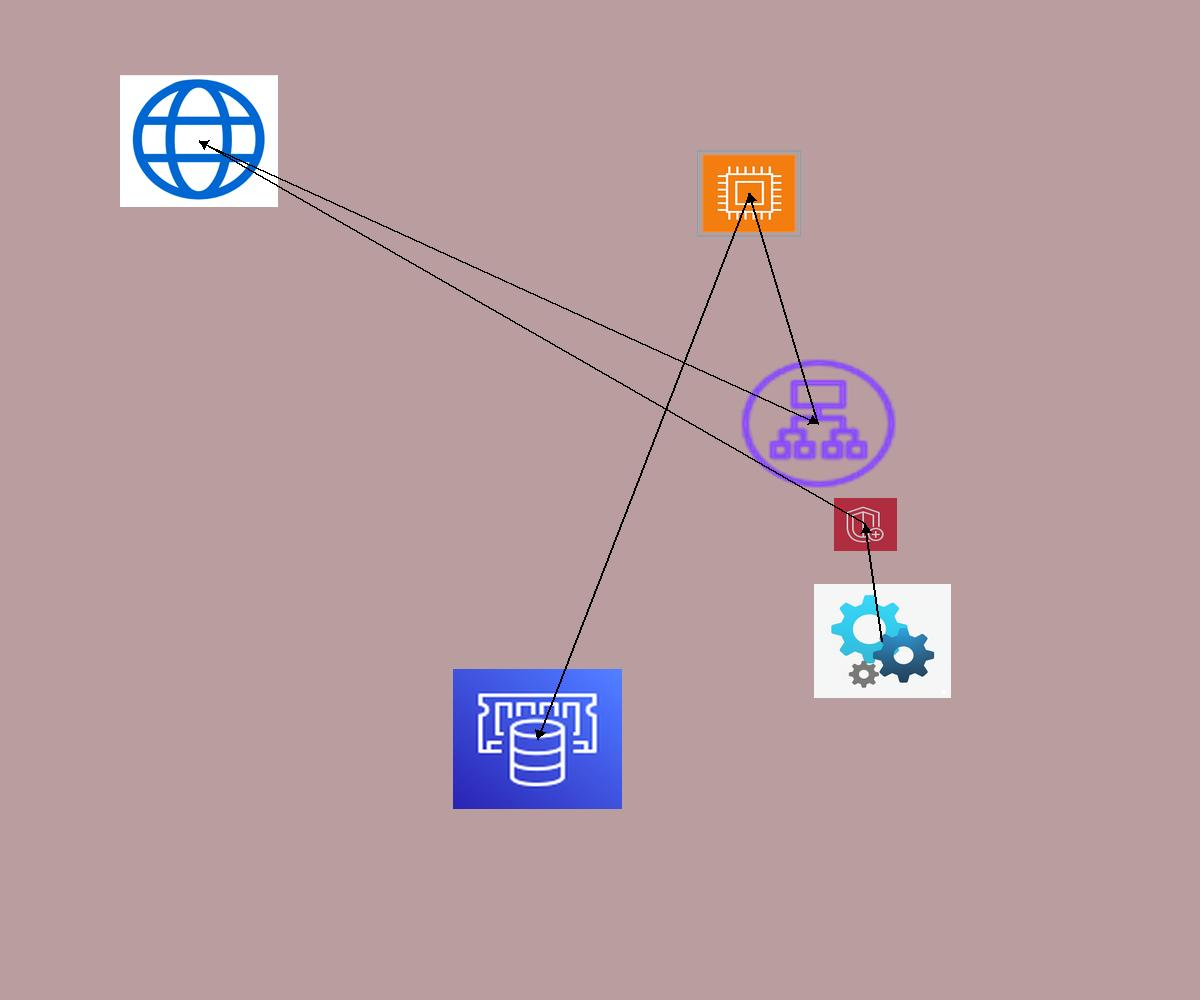AWS-Category_Compute: (697, 150, 801, 237)
AWS-ElastiCache: (453, 669, 622, 809)
AWS-Res_Elastic-Load-Balancing_Application-Load-Balancer: (735, 354, 902, 493)
AWS-Shield: (834, 498, 897, 551)
Azure_api: (814, 584, 951, 698)
Azure_http: (120, 75, 278, 207)
